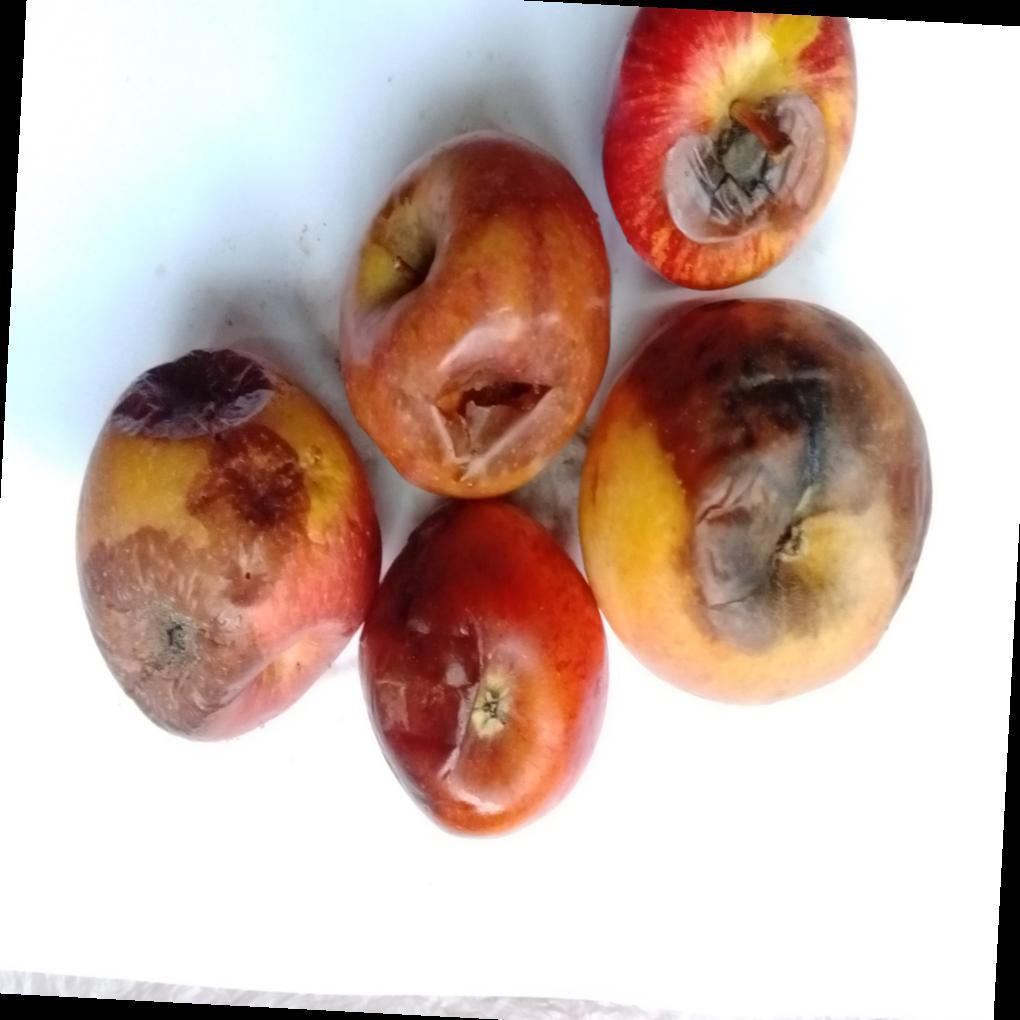FreshOrange: (76, 133, 931, 829), (600, 9, 858, 292)
